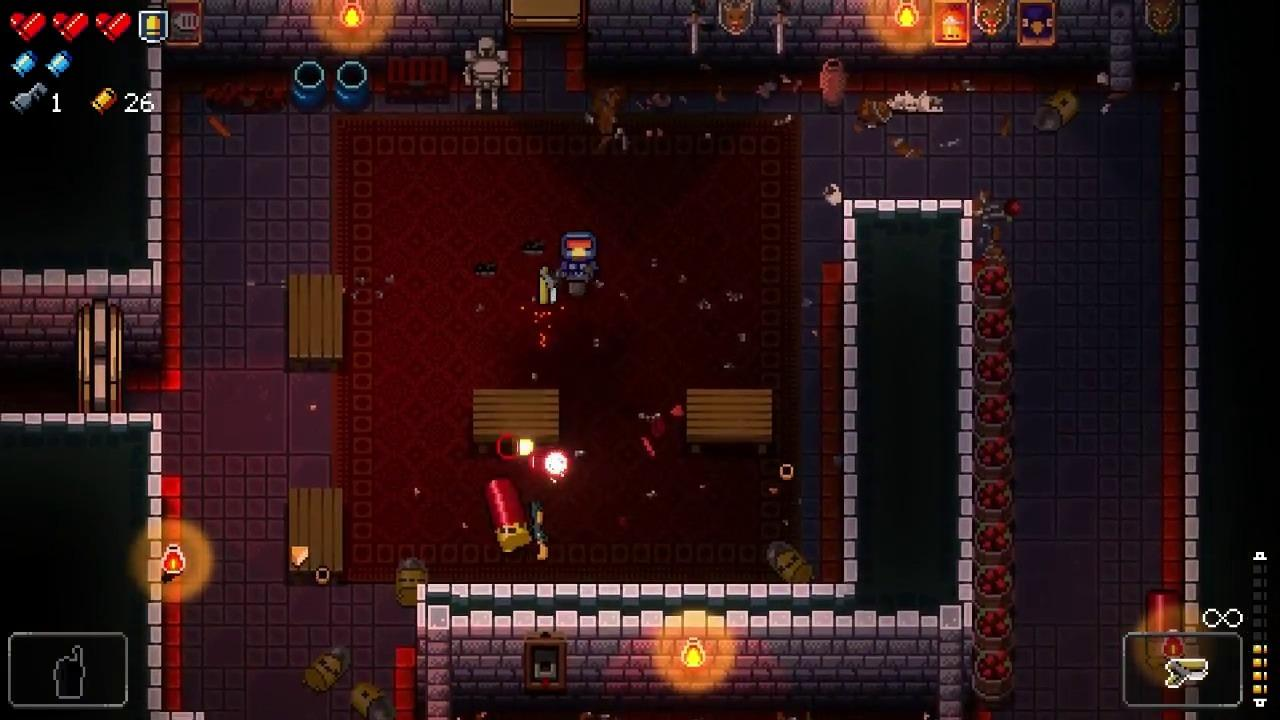bullet: (542, 445, 571, 479)
bullet_kin: (766, 539, 815, 585), (395, 558, 429, 605)
dead_bullet_kin: (302, 642, 351, 692), (1032, 87, 1080, 131), (351, 682, 395, 720)
locked_door: (77, 298, 123, 414)
player: (560, 231, 600, 283)
red_shotgun_kin: (484, 477, 534, 554), (1146, 589, 1183, 672)
table: (687, 388, 773, 454), (472, 389, 559, 453), (289, 273, 343, 371), (288, 487, 342, 581)
